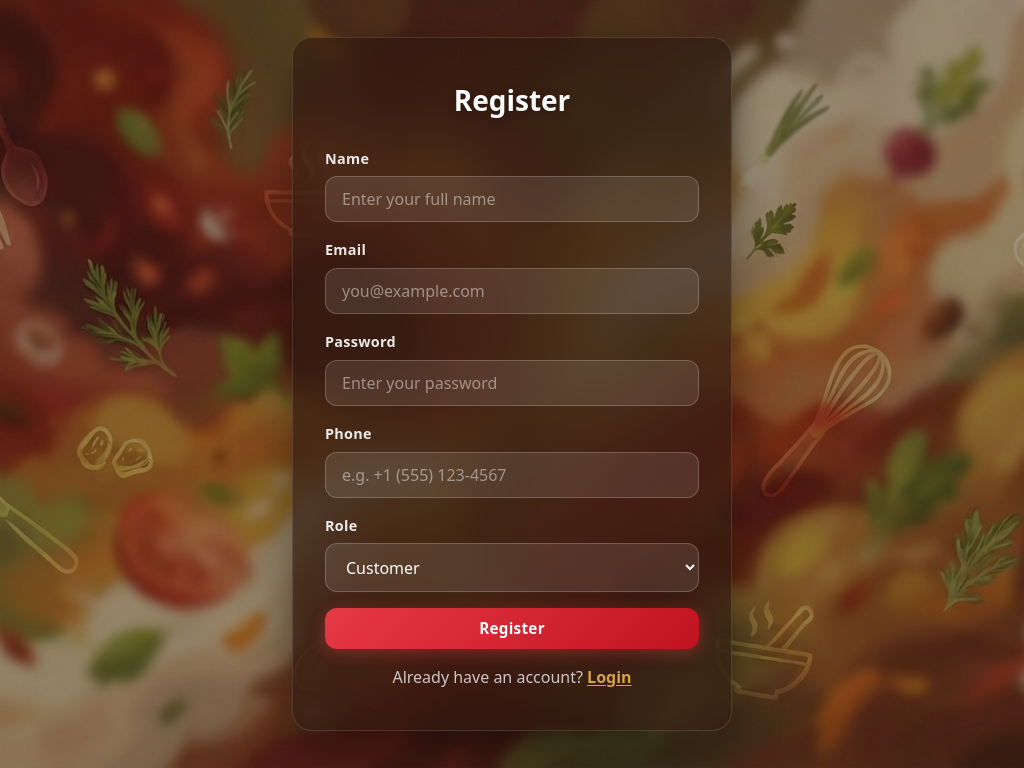
it: Register › shows name validation error for invalid name
In the field with placeholder "Enter your full name": [512, 199] box [325,176,699,222], type "A"
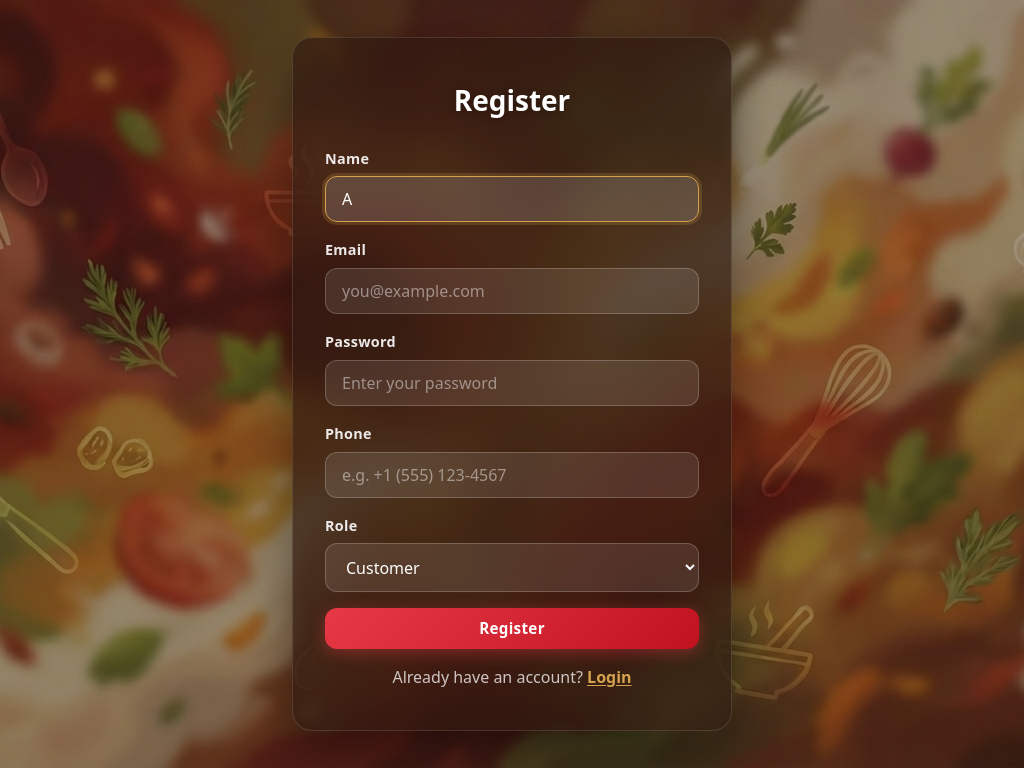
Press Tab
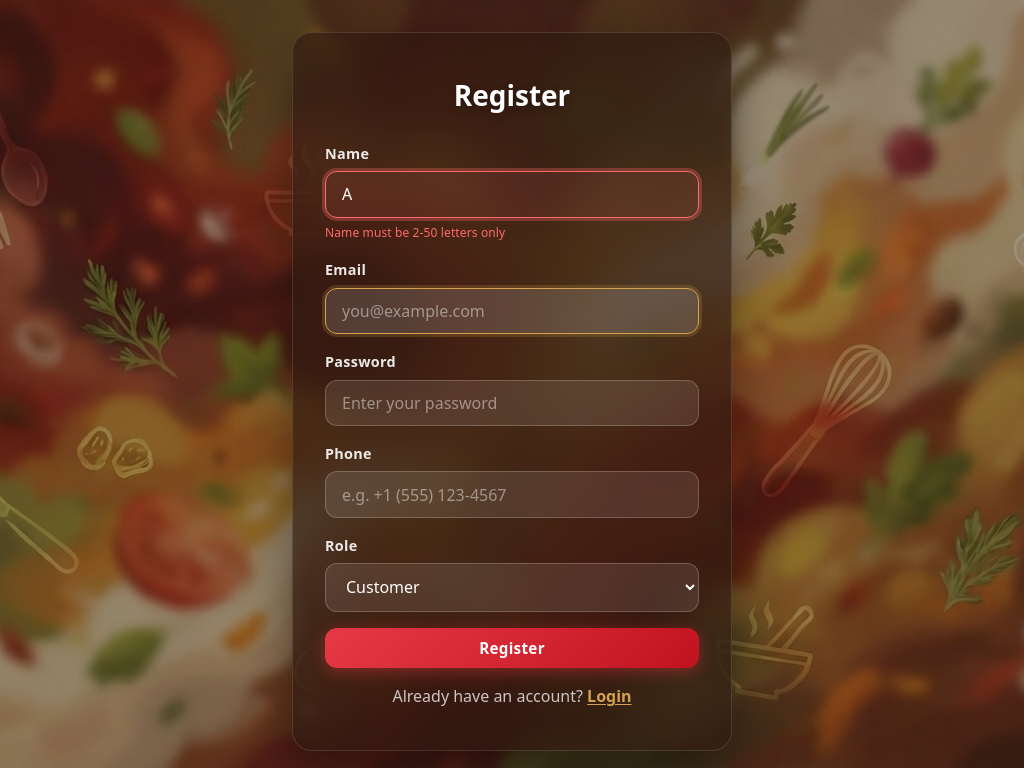
Expected: the text "Name must be 2-50 letters only" is shown, [325,224,505,241]
